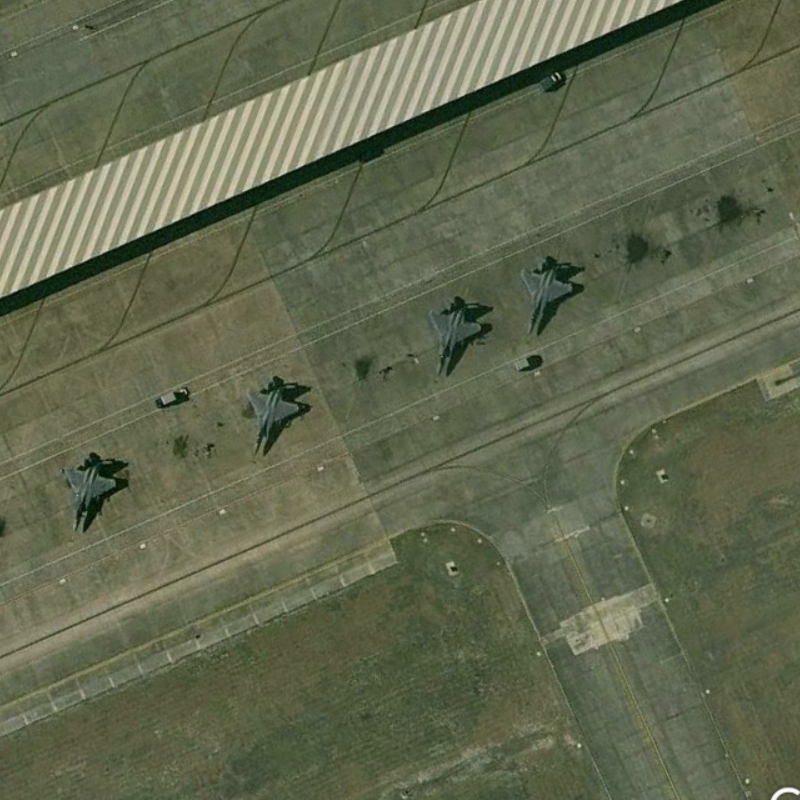A13: (54, 450, 124, 539), (239, 372, 307, 461), (422, 291, 488, 382), (516, 251, 579, 341)
